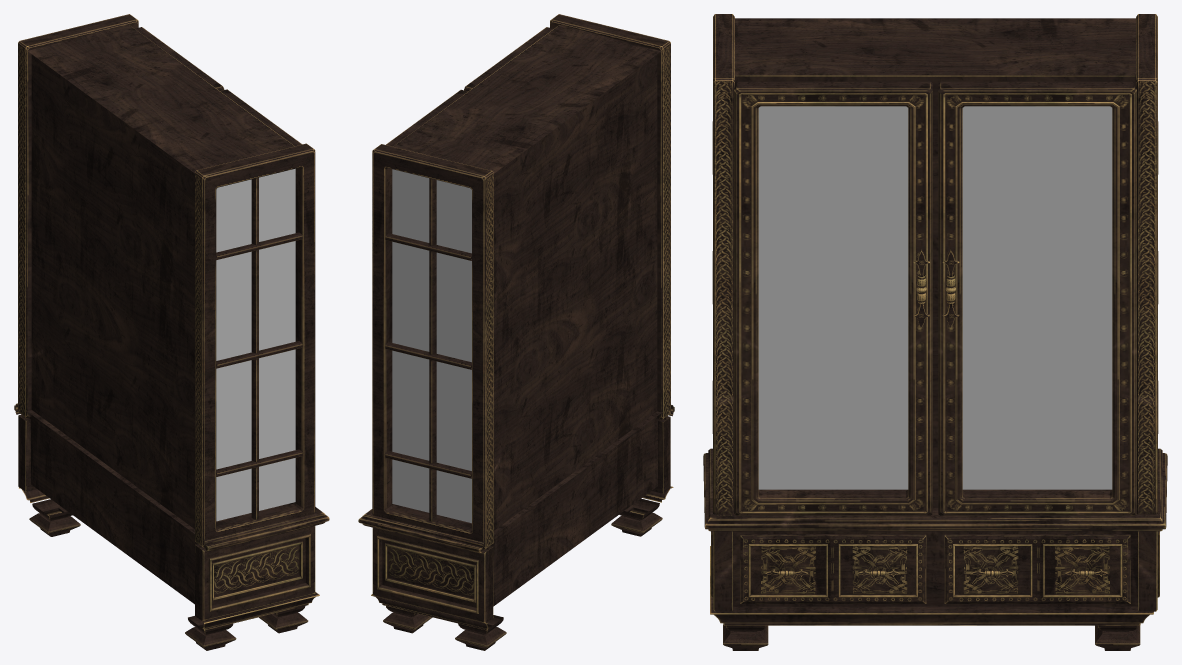
File: SM_Vitrin3_DoubleDoor.fbx
3 renders of one model, left to right at view 1: azimuth 30°, elevation 25°; view 2: azimuth 150°, elevation 25°; view 3: azimuth 270°, elevation 25°, orthographic. The views are drawn at different scales.
Visible parts, largest first — view 1: SM_Vitrin3_DoubleDoor_LOD0; view 2: SM_Vitrin3_DoubleDoor_LOD0; view 3: SM_Vitrin3_DoubleDoor_LOD0.
Part boxes in pixels (box(x1,y1,x2,y2)): SM_Vitrin3_DoubleDoor_LOD0: box(14, 14, 329, 650); SM_Vitrin3_DoubleDoor_LOD0: box(358, 14, 674, 650); SM_Vitrin3_DoubleDoor_LOD0: box(703, 14, 1167, 650).
Size of the model in its own units: 65.74 by 169 by 233.
Materials: 2 (1 with a texture image).
